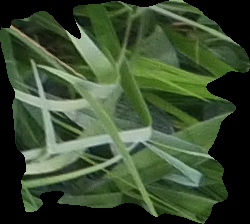grass: (1, 1, 248, 222)
